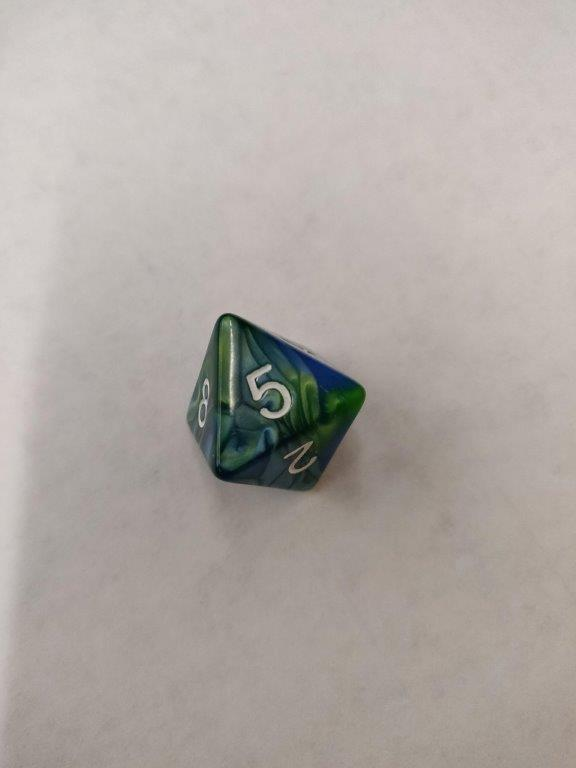d8-5: (182, 305, 367, 500)
